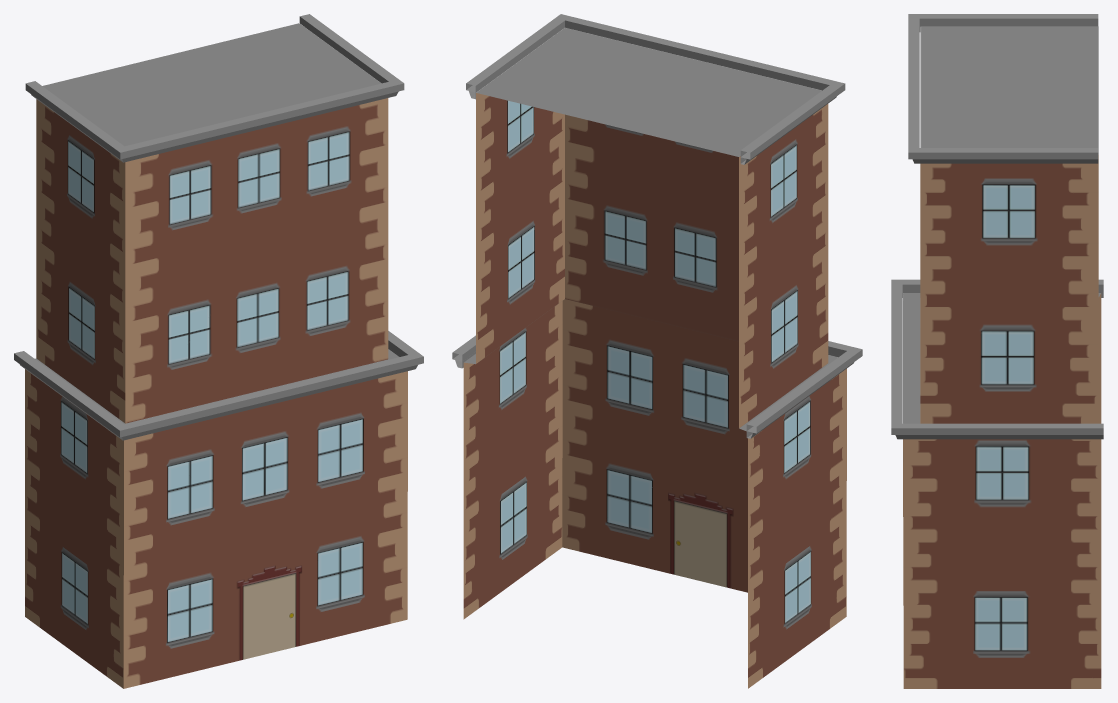
File: backgroun building 1.fbx
3 views of the same model, side by side, from view 1: azimuth 30°, elevation 25°; view 2: azimuth 150°, elevation 25°; view 3: azimuth 270°, elevation 25° (orthographic).
Parts seen in each view (by area): view 1: Cube.001; view 2: Cube.001; view 3: Cube.001.
Boxes of the visible parts, x1,y1,x2,y2 form: Cube.001: (14,14,423,688); Cube.001: (452,14,862,688); Cube.001: (891,14,1103,688).
Size of the model in its own units: 1995 by 3353 by 1203.
Materials: 4 (4 with a texture image).
